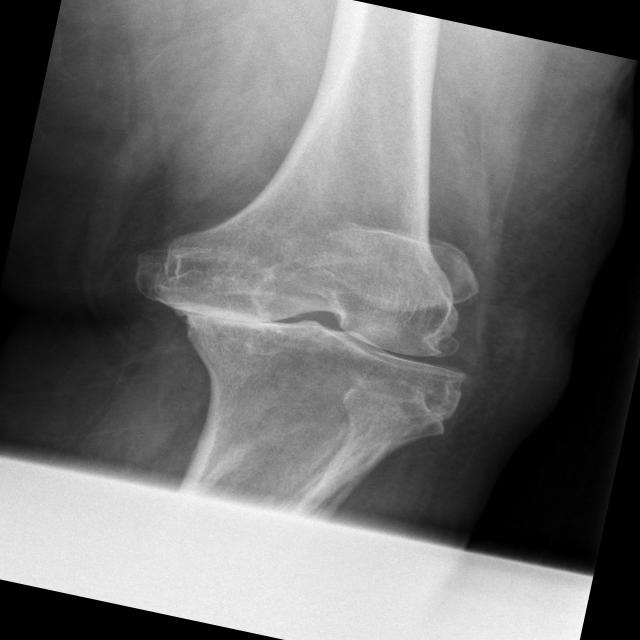Knee: (106, 169, 494, 445)
